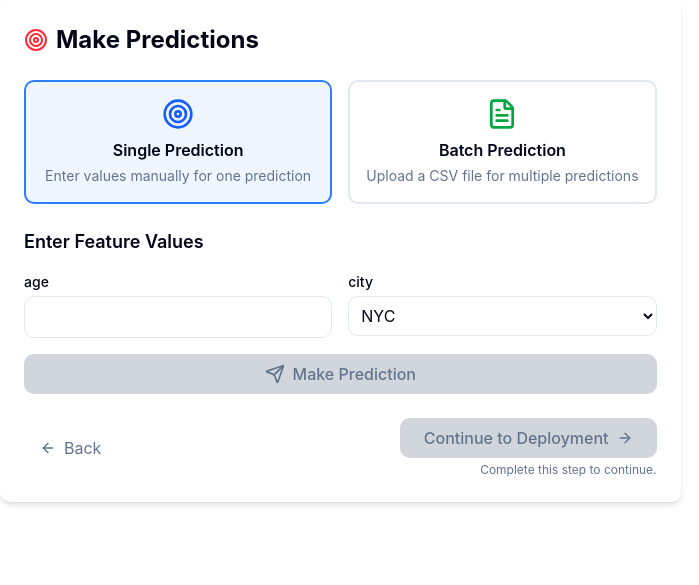
Test: PredictPage — single prediction result › surfaces a prediction failure as an error and marks no stage complete
This screenshot has width=699, height=585.
In the number field labelled "age": (178, 317) 24,296 -> 332,338, type "42"
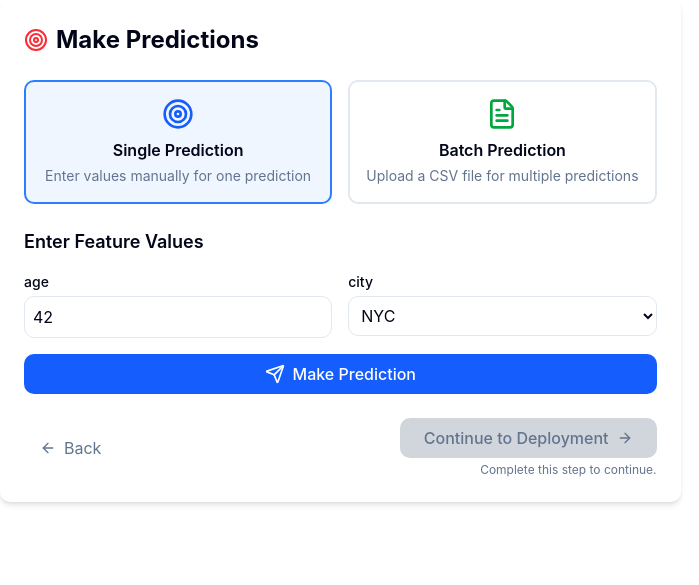
Click the button with test id "make-prediction": (340, 374) 24,354 -> 656,394
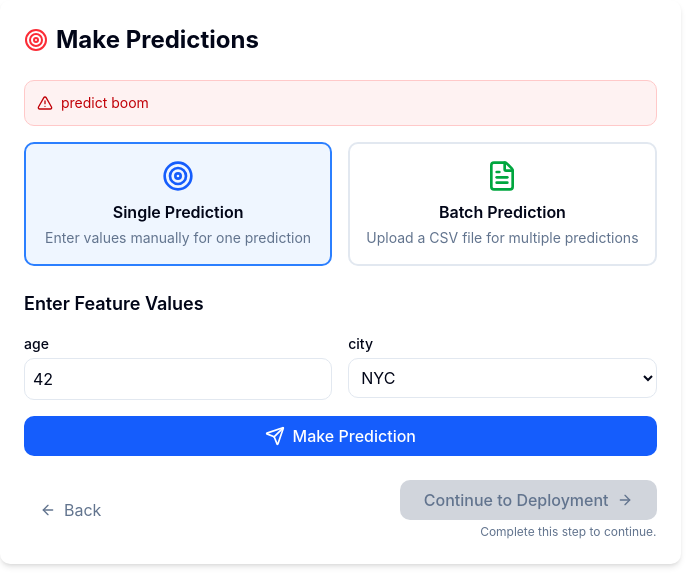
Expected: the element with test id "prediction-error" reads "predict boom", 61,94 -> 149,111
